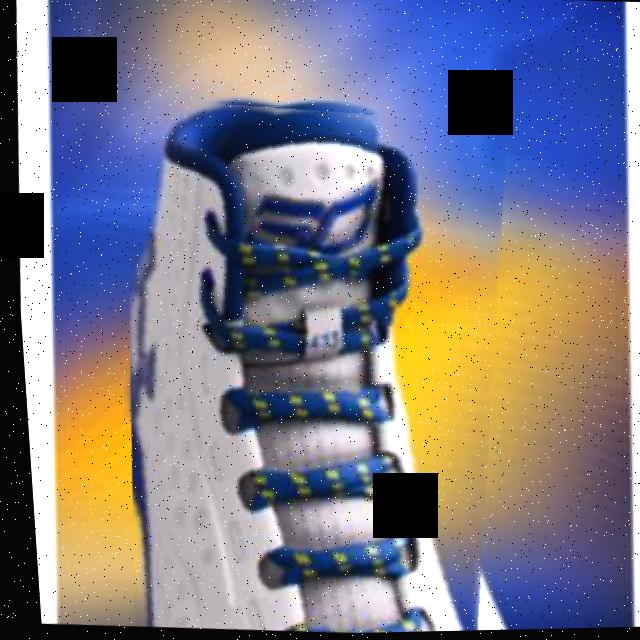shoe: (97, 90, 533, 638)
